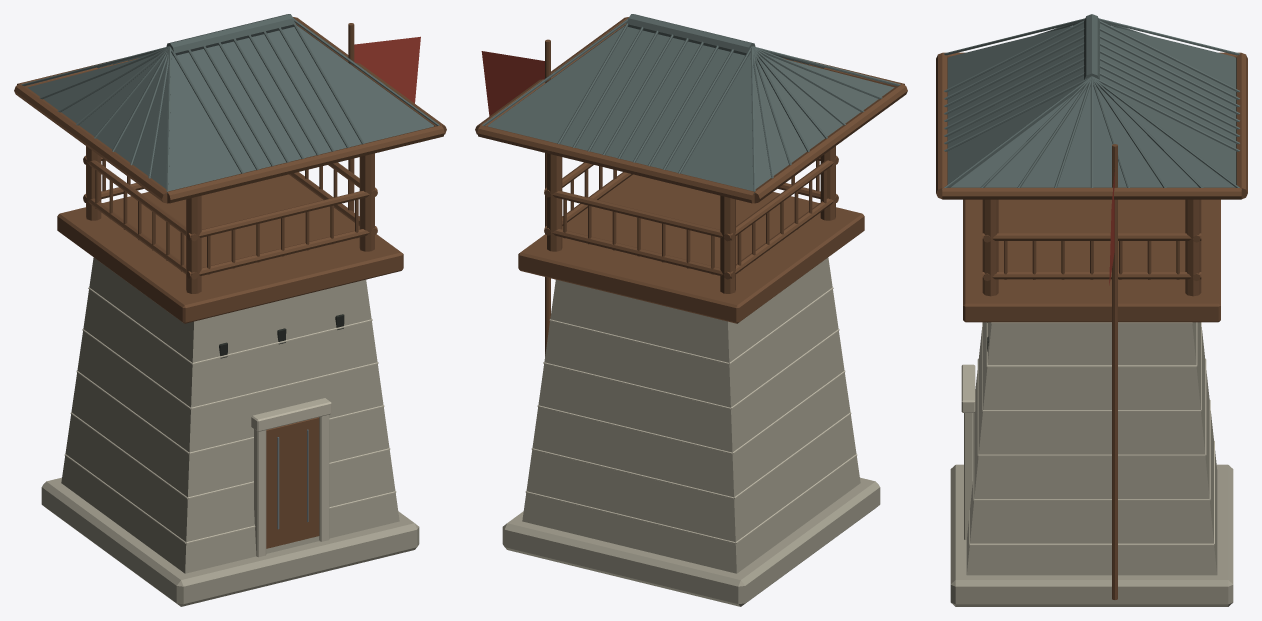
The model's file is tower.glb.
3 views of the same model, side by side, from view 1: azimuth 30°, elevation 25°; view 2: azimuth 150°, elevation 25°; view 3: azimuth 270°, elevation 25° (orthographic).
Visible parts, largest first — view 1: geometry_tower; view 2: geometry_tower; view 3: geometry_tower.
Part boxes in pixels (box(x1,y1,x2,y2)): geometry_tower: box(14, 14, 446, 606); geometry_tower: box(475, 14, 907, 606); geometry_tower: box(936, 14, 1247, 606).
Size of the model in its own units: 3.47 by 4.85 by 2.71.
